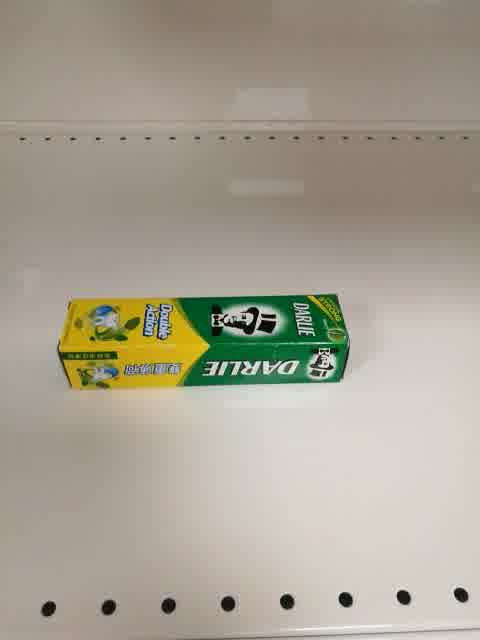toothpaste: (56, 293, 349, 389)
